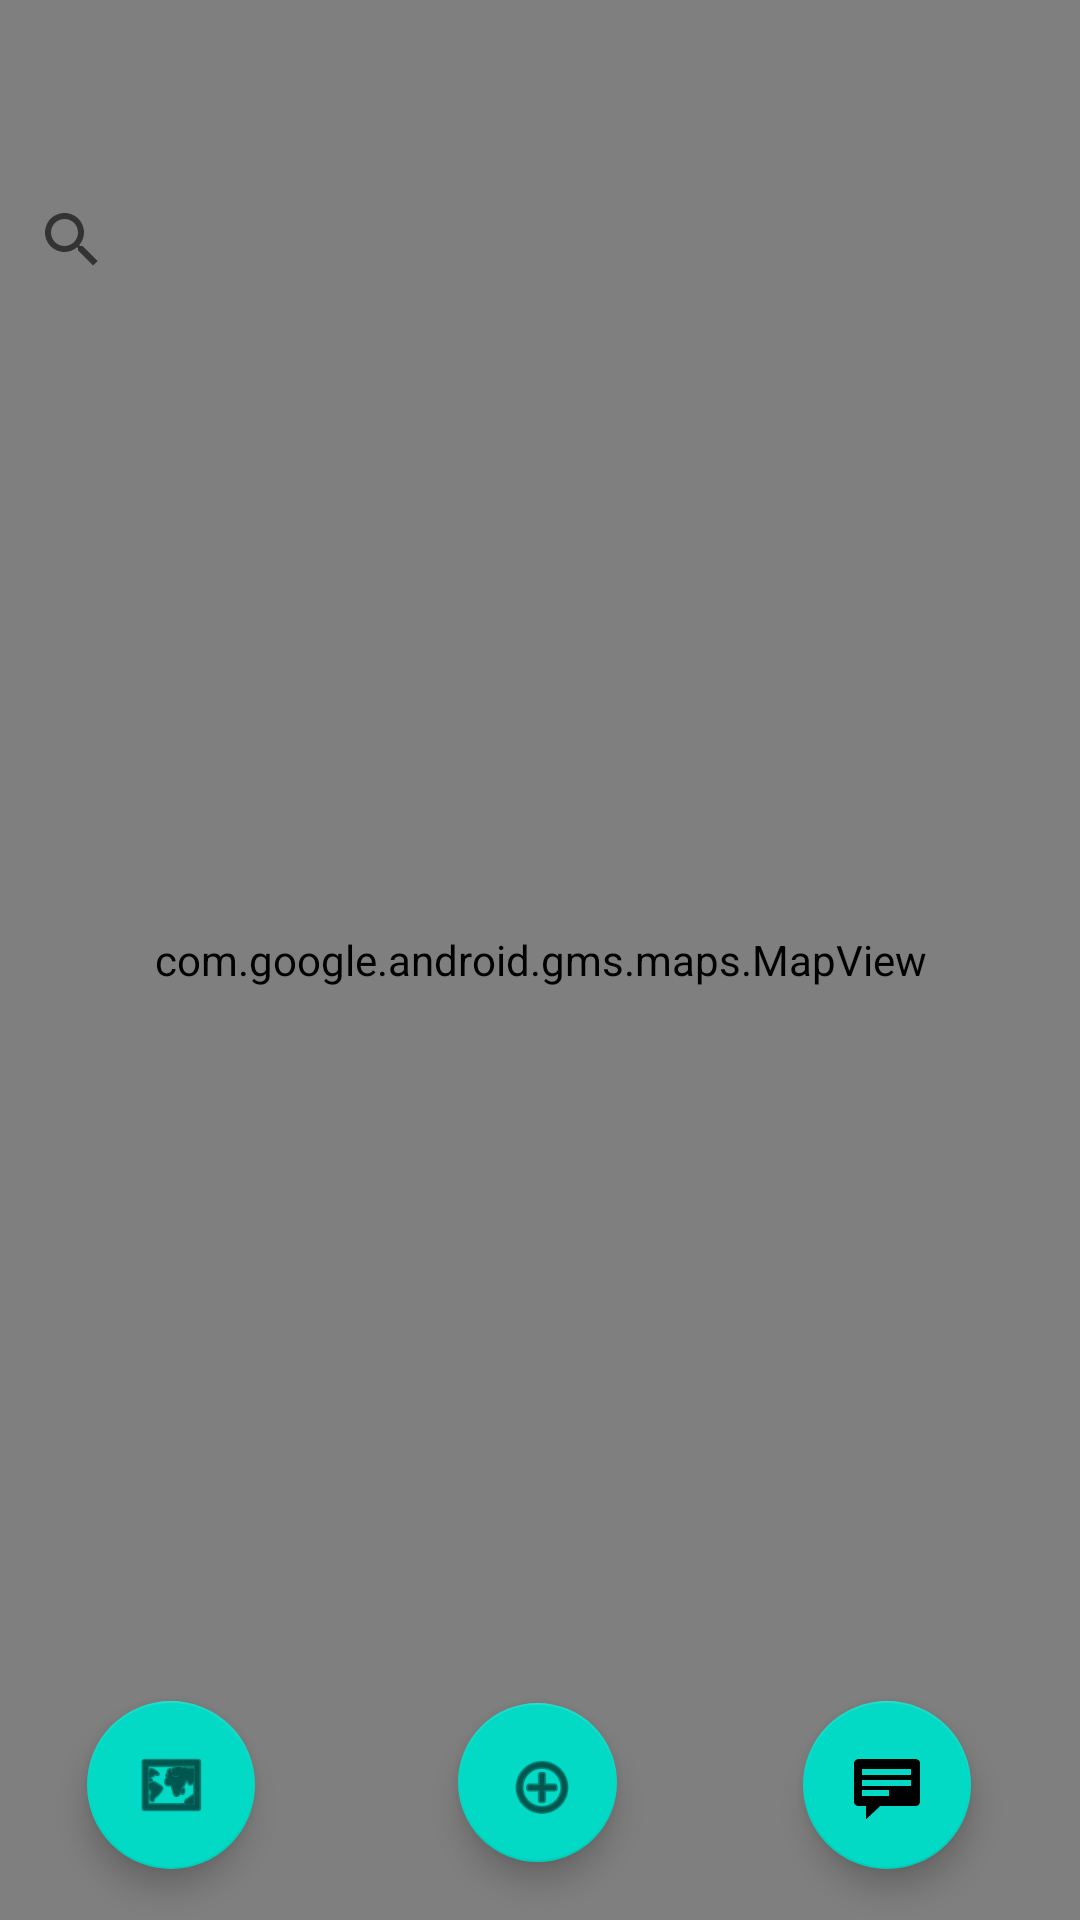

Screen size 1080w x 1920h. Icon name, then its box in pixels as (x1, y1, x2, y2):
add: (458, 1703, 617, 1862)
chat: (803, 1701, 971, 1869)
mapmode: (87, 1701, 255, 1869)
